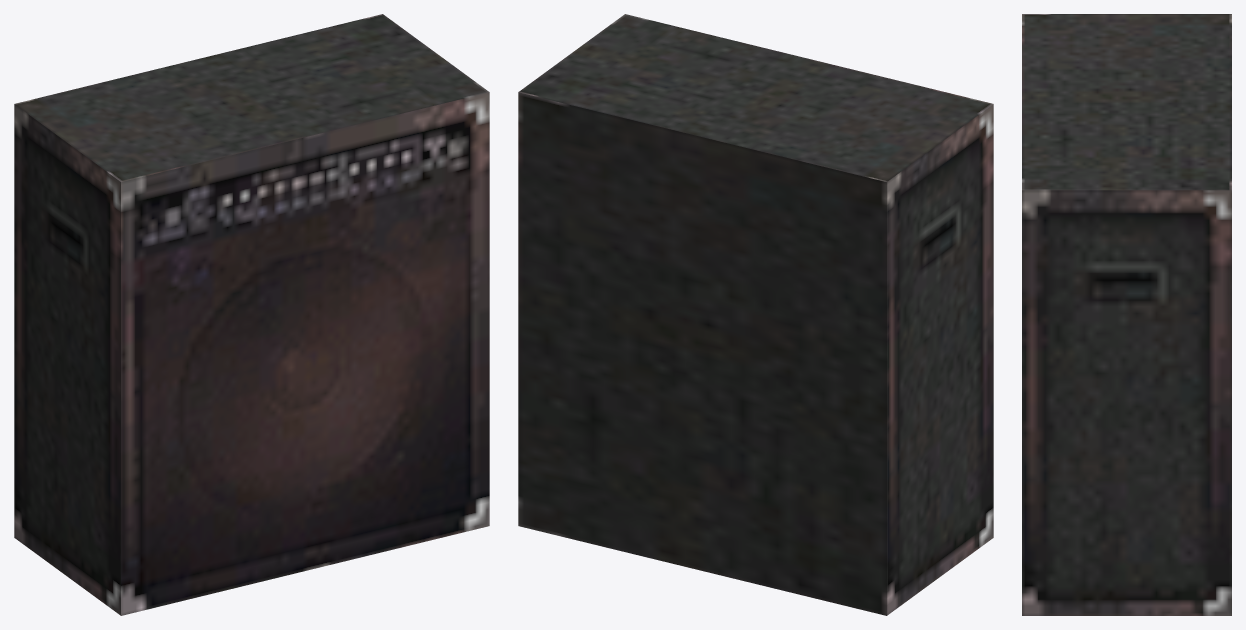
The model's file is stage_amp.fbx.
3 views of the same model, side by side, from view 1: azimuth 30°, elevation 25°; view 2: azimuth 150°, elevation 25°; view 3: azimuth 270°, elevation 25° (orthographic).
Parts seen in each view (by area): view 1: mesh_0; view 2: mesh_0; view 3: mesh_0.
Boxes of the visible parts, bbox=[...] form: mesh_0: bbox=[14, 14, 489, 615]; mesh_0: bbox=[518, 14, 993, 615]; mesh_0: bbox=[1022, 14, 1231, 615].
Size of the model in its own units: 62.24 by 70 by 31.27.
Materials: 1 (1 with a texture image).
